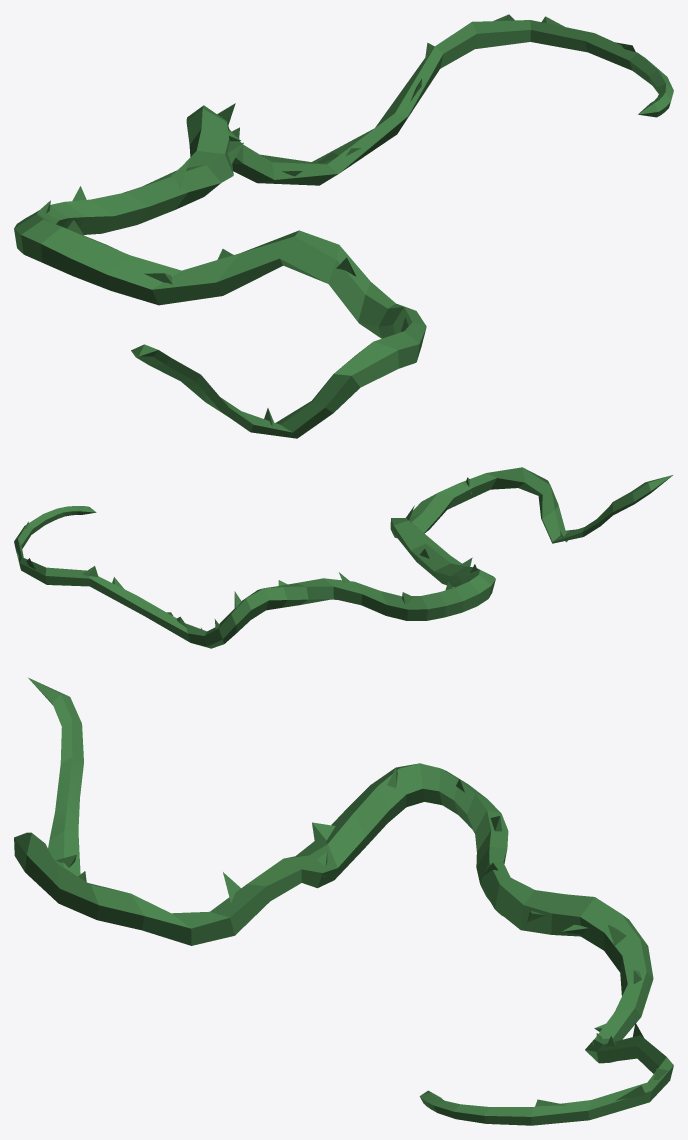
File: vine 4.fbx
The picture shows the model from 3 angles, top to bottom: view 1: azimuth 30°, elevation 25°; view 2: azimuth 150°, elevation 25°; view 3: azimuth 270°, elevation 25°; orthographic projection. The views are drawn at different scales.
Visible parts, largest first — view 1: polySurface256; view 2: polySurface256; view 3: polySurface256.
Boxes of the visible parts, <box> form: polySurface256: <box>14,14,673,438</box>; polySurface256: <box>14,467,672,648</box>; polySurface256: <box>14,677,673,1125</box>.
Size of the model in its own units: 21.29 by 4.21 by 16.34.
